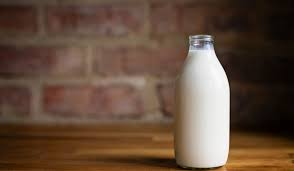milk: (175, 32, 232, 164)
